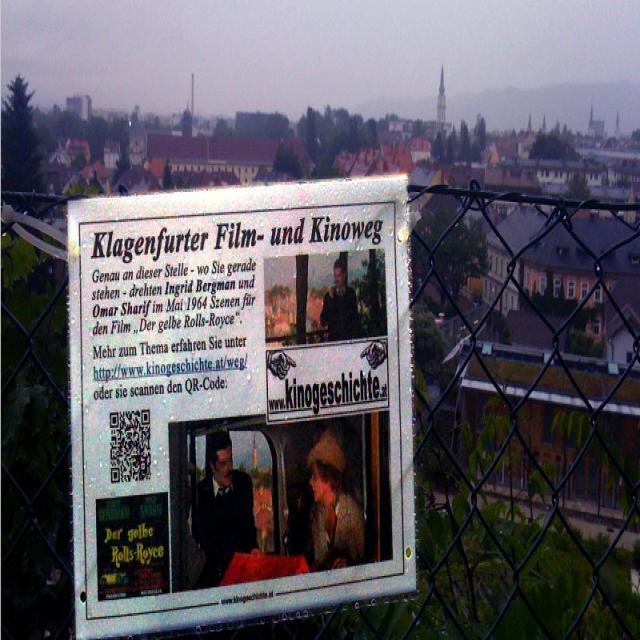qr-code: (110, 410, 150, 482)
